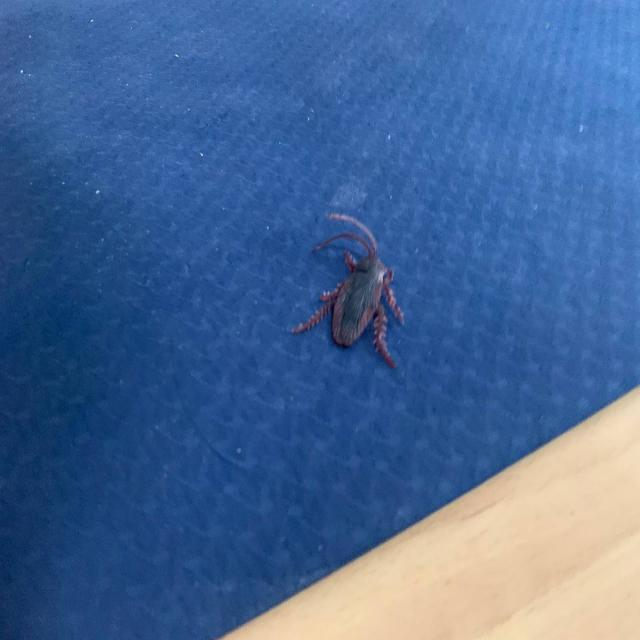Cockroach: (296, 207, 404, 372)
